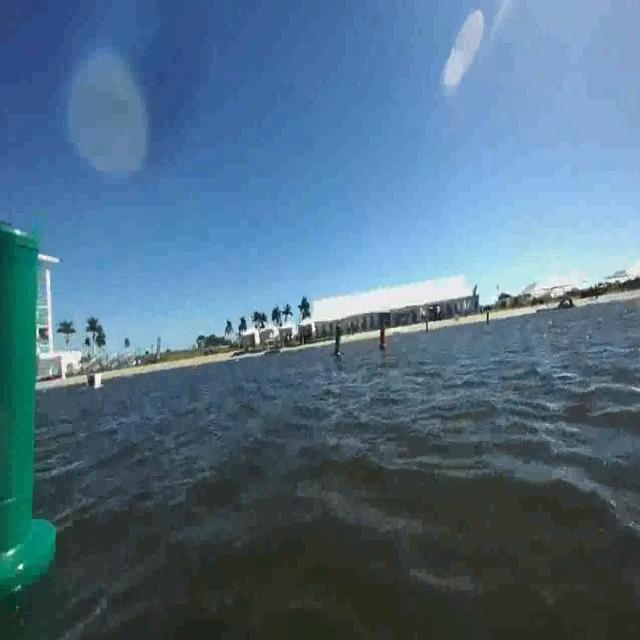green-column-buoy: (1, 207, 57, 596), (333, 326, 345, 360)
